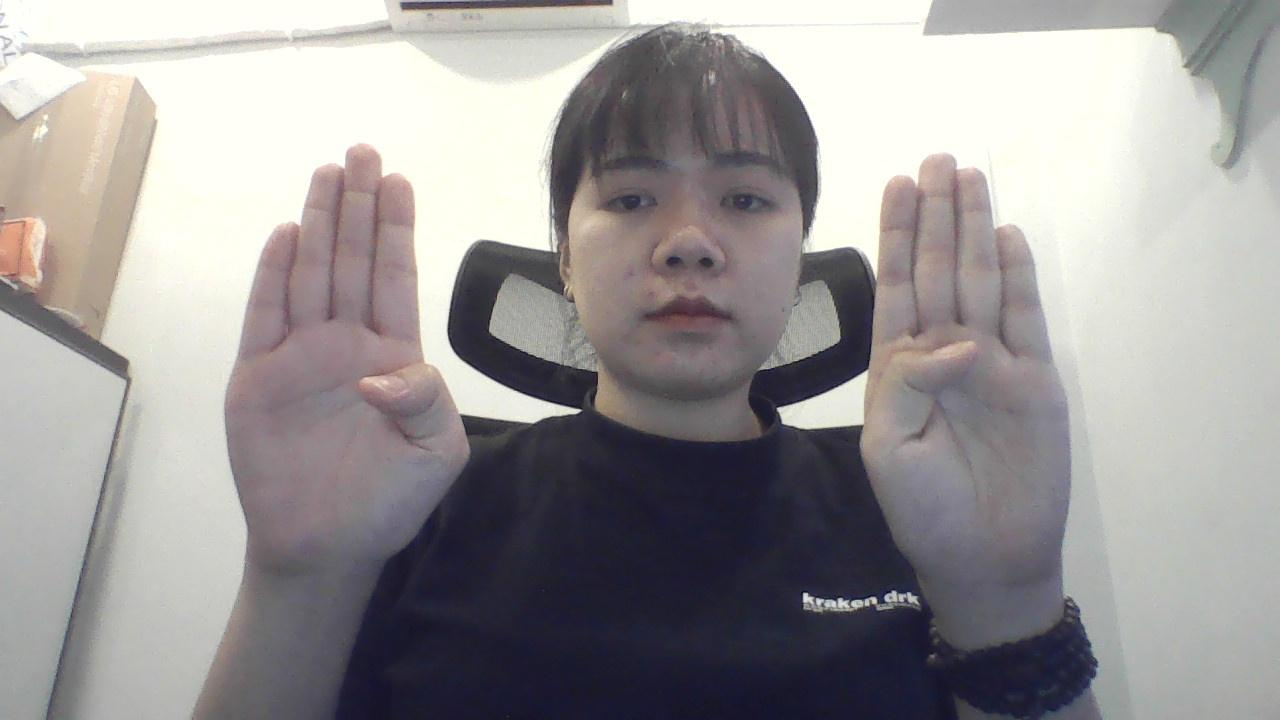B: (196, 121, 474, 633), (859, 132, 1085, 601)
